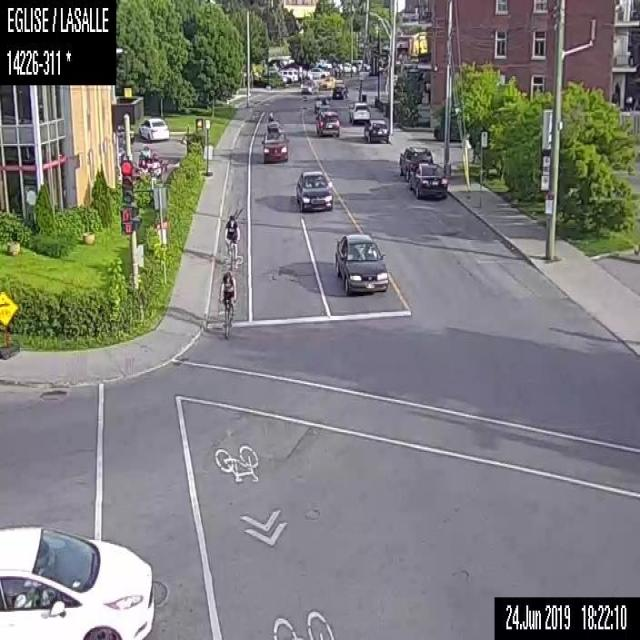cyclist: (219, 273, 236, 340), (222, 213, 239, 272), (267, 112, 274, 122)
vehicle: (0, 522, 156, 638), (335, 230, 387, 293), (294, 166, 334, 213), (407, 161, 448, 200), (258, 117, 288, 164), (399, 144, 433, 180), (136, 115, 170, 143), (315, 109, 341, 139), (363, 117, 388, 144), (347, 98, 370, 124), (298, 76, 318, 94), (319, 75, 342, 90), (277, 68, 300, 81), (313, 94, 329, 112), (307, 66, 327, 78), (332, 82, 347, 98)
